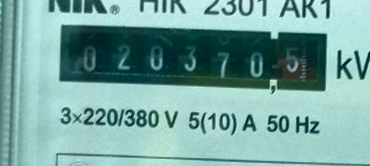0: (247, 50, 266, 80), (80, 43, 98, 72), (148, 43, 164, 71)
2: (114, 42, 133, 73)
3: (181, 43, 198, 73)
5: (283, 44, 302, 75)
7: (214, 50, 230, 80)
screen: (52, 18, 336, 101)
